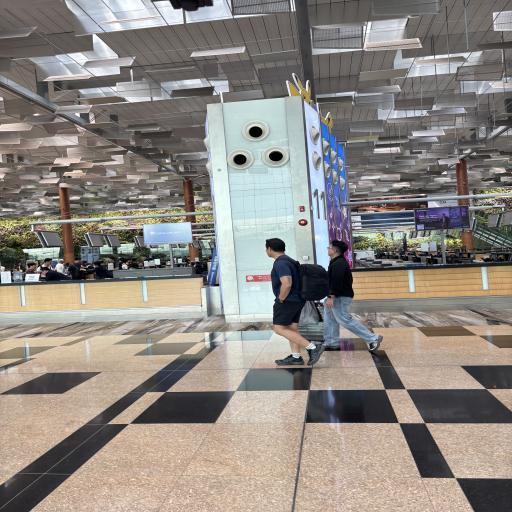person_left: (254, 237, 330, 372)
person_with_luggage_left: (298, 241, 384, 353)
